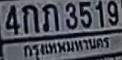1: (95, 0, 102, 26)
3: (65, 2, 77, 28)
4: (5, 4, 19, 34)
5: (78, 1, 91, 27)
9: (107, 0, 118, 25)
A01: (21, 3, 39, 32)
A32: (42, 3, 58, 31)
BKK: (21, 34, 112, 60)
